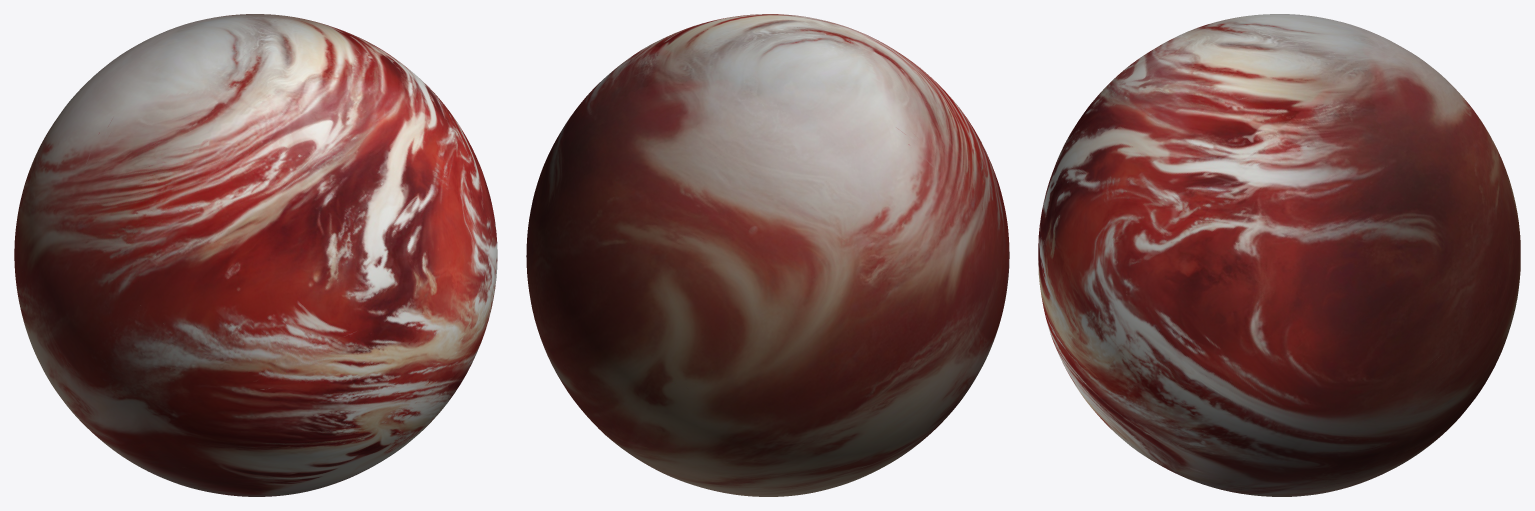
File: LHS_1140_b_0912080521.glb
3 renders of one model, left to right at view 1: azimuth 30°, elevation 25°; view 2: azimuth 150°, elevation 25°; view 3: azimuth 270°, elevation 25°, orthographic.
Bounding box in the file's own units: 2 × 2 × 2.
Materials: 1 (1 with a texture image).
